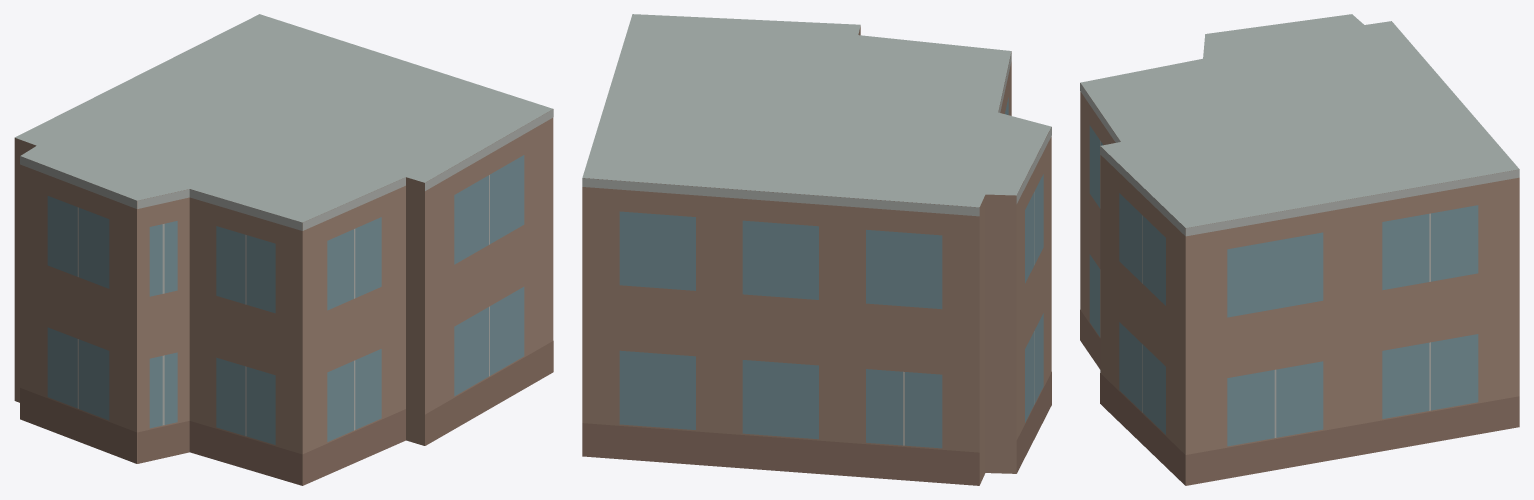
File: survey-upis-32904930.glb
3 views of the same model, side by side, from view 1: azimuth 30°, elevation 25°; view 2: azimuth 150°, elevation 25°; view 3: azimuth 270°, elevation 25° (orthographic). The views are drawn at different scales.
Visible parts, largest first — view 1: survey-upis-32904930.tmp; view 2: survey-upis-32904930.tmp; view 3: survey-upis-32904930.tmp.
Boxes of the visible parts, x1,y1,x2,y2 form: survey-upis-32904930.tmp: (14, 14, 553, 485); survey-upis-32904930.tmp: (582, 14, 1051, 485); survey-upis-32904930.tmp: (1080, 14, 1519, 485).
Size of the model in its own units: 13.46 by 7.55 by 11.67.
